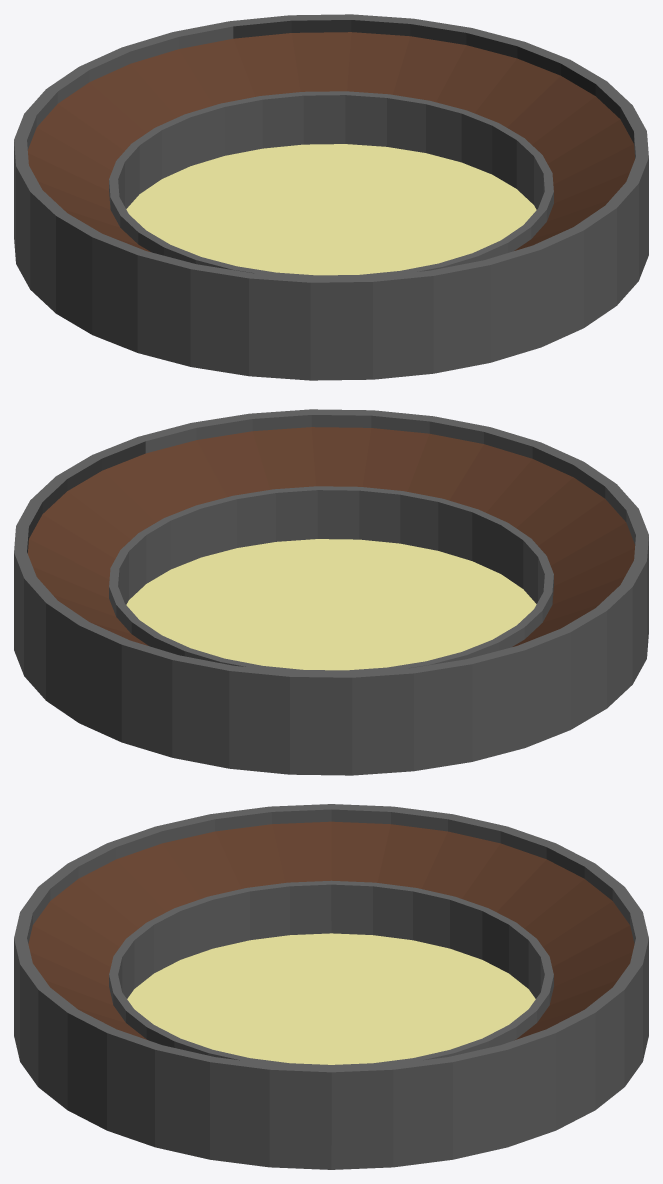
Rendered from Sjedište.fbx.
3 views of the same model, one above another, from view 1: azimuth 30°, elevation 25°; view 2: azimuth 150°, elevation 25°; view 3: azimuth 270°, elevation 25° (orthographic).
Visible parts, largest first — view 1: Sjedište; view 2: Sjedište; view 3: Sjedište.
Boxes of the visible parts, left/top/right/bottom form: Sjedište: left=14, top=14, right=648, bottom=380; Sjedište: left=14, top=409, right=648, bottom=775; Sjedište: left=14, top=804, right=648, bottom=1169.
Size of the model in its own units: 4716 by 800 by 4716.
Materials: 1 (1 with a texture image).
